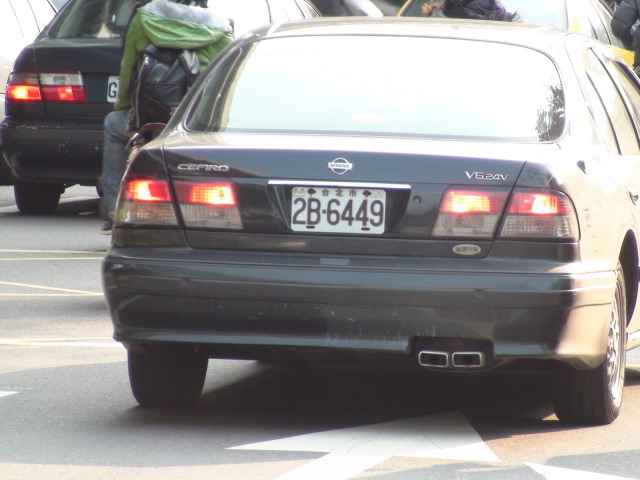plate: (292, 185, 388, 236)
